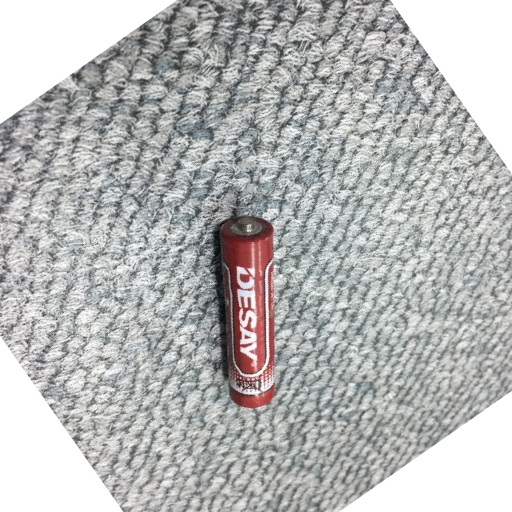Battery_0: (211, 206, 285, 417)
